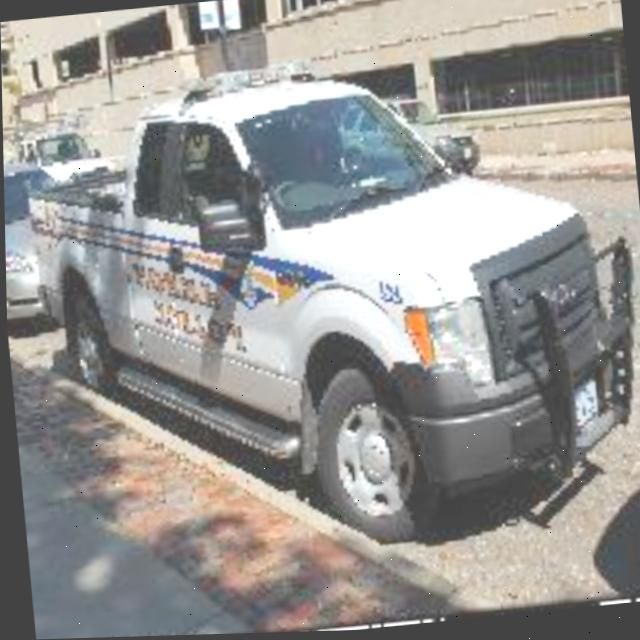emergency: (27, 53, 623, 554)
